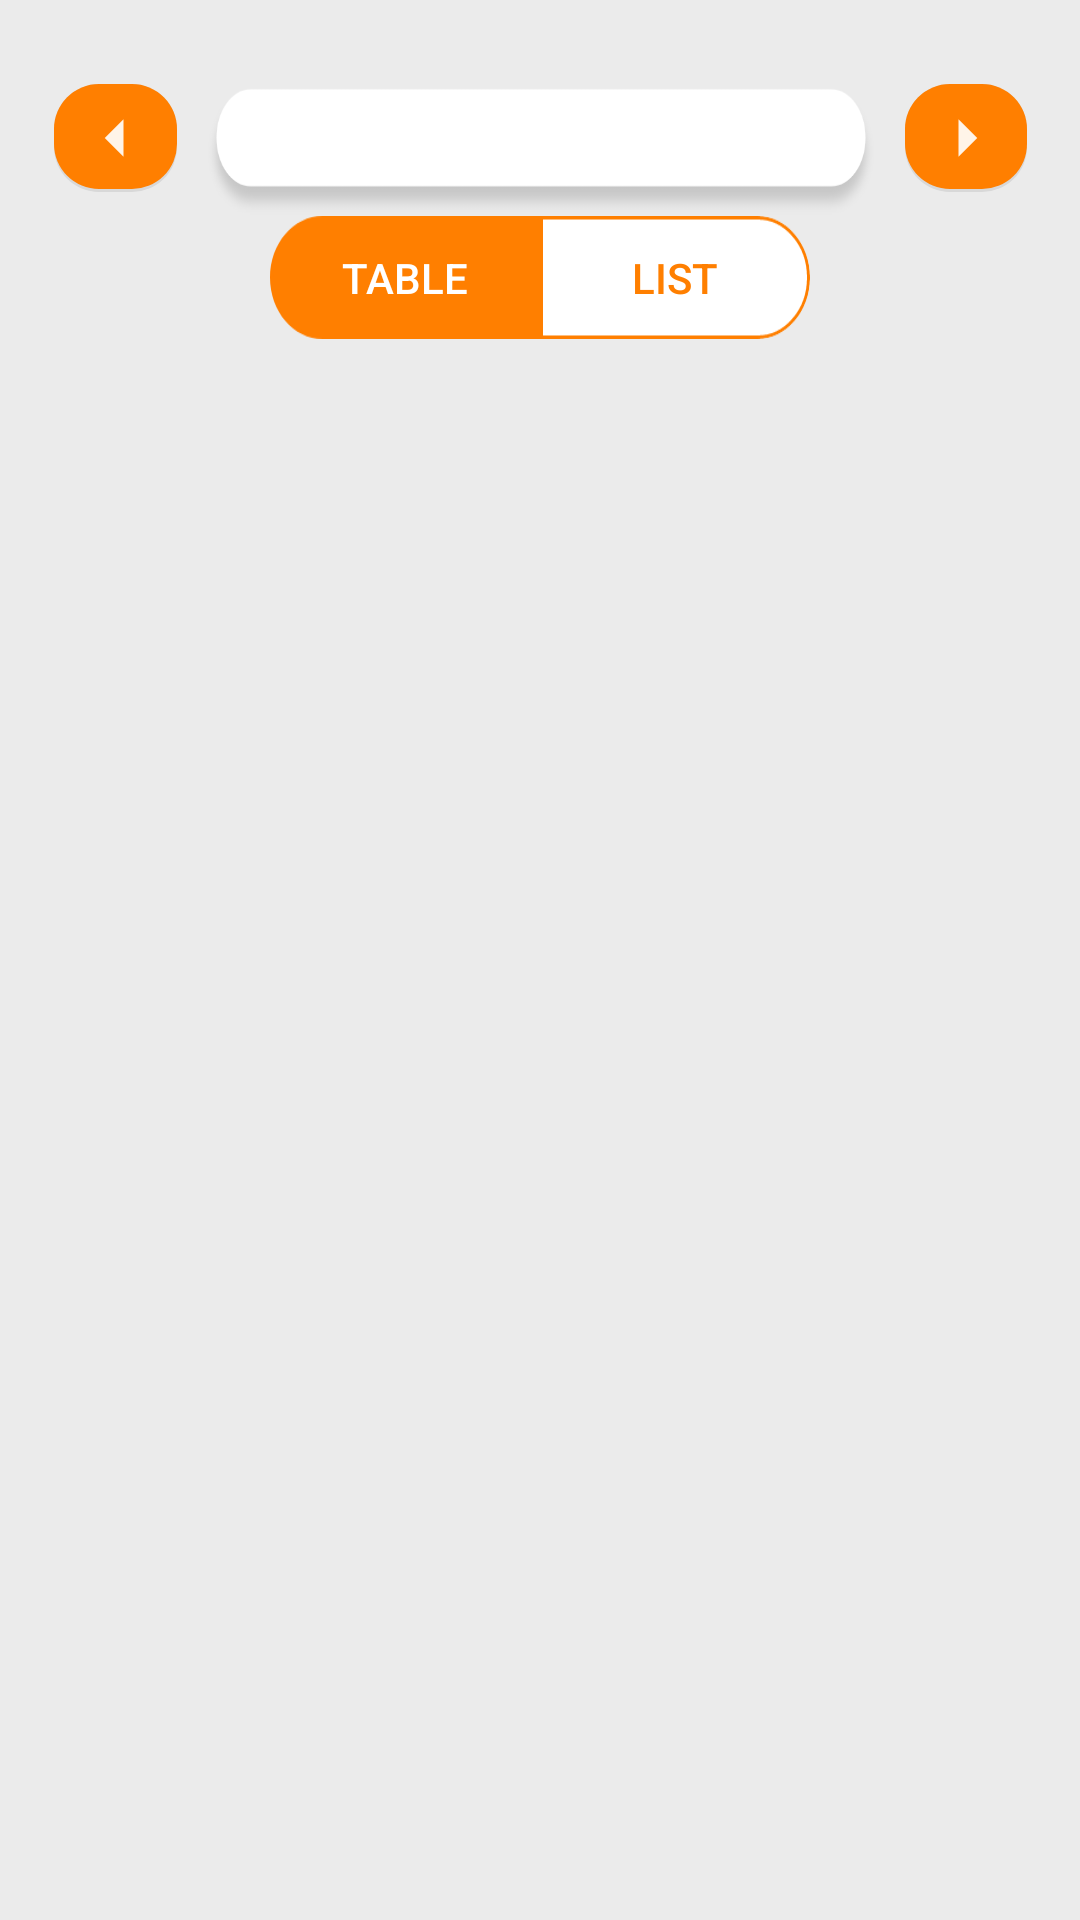

Icons on this 1080px×1920px Android screen, each with the point to tap as [x,y]:
arrow left: [115,136]
arrow right: [966,136]
